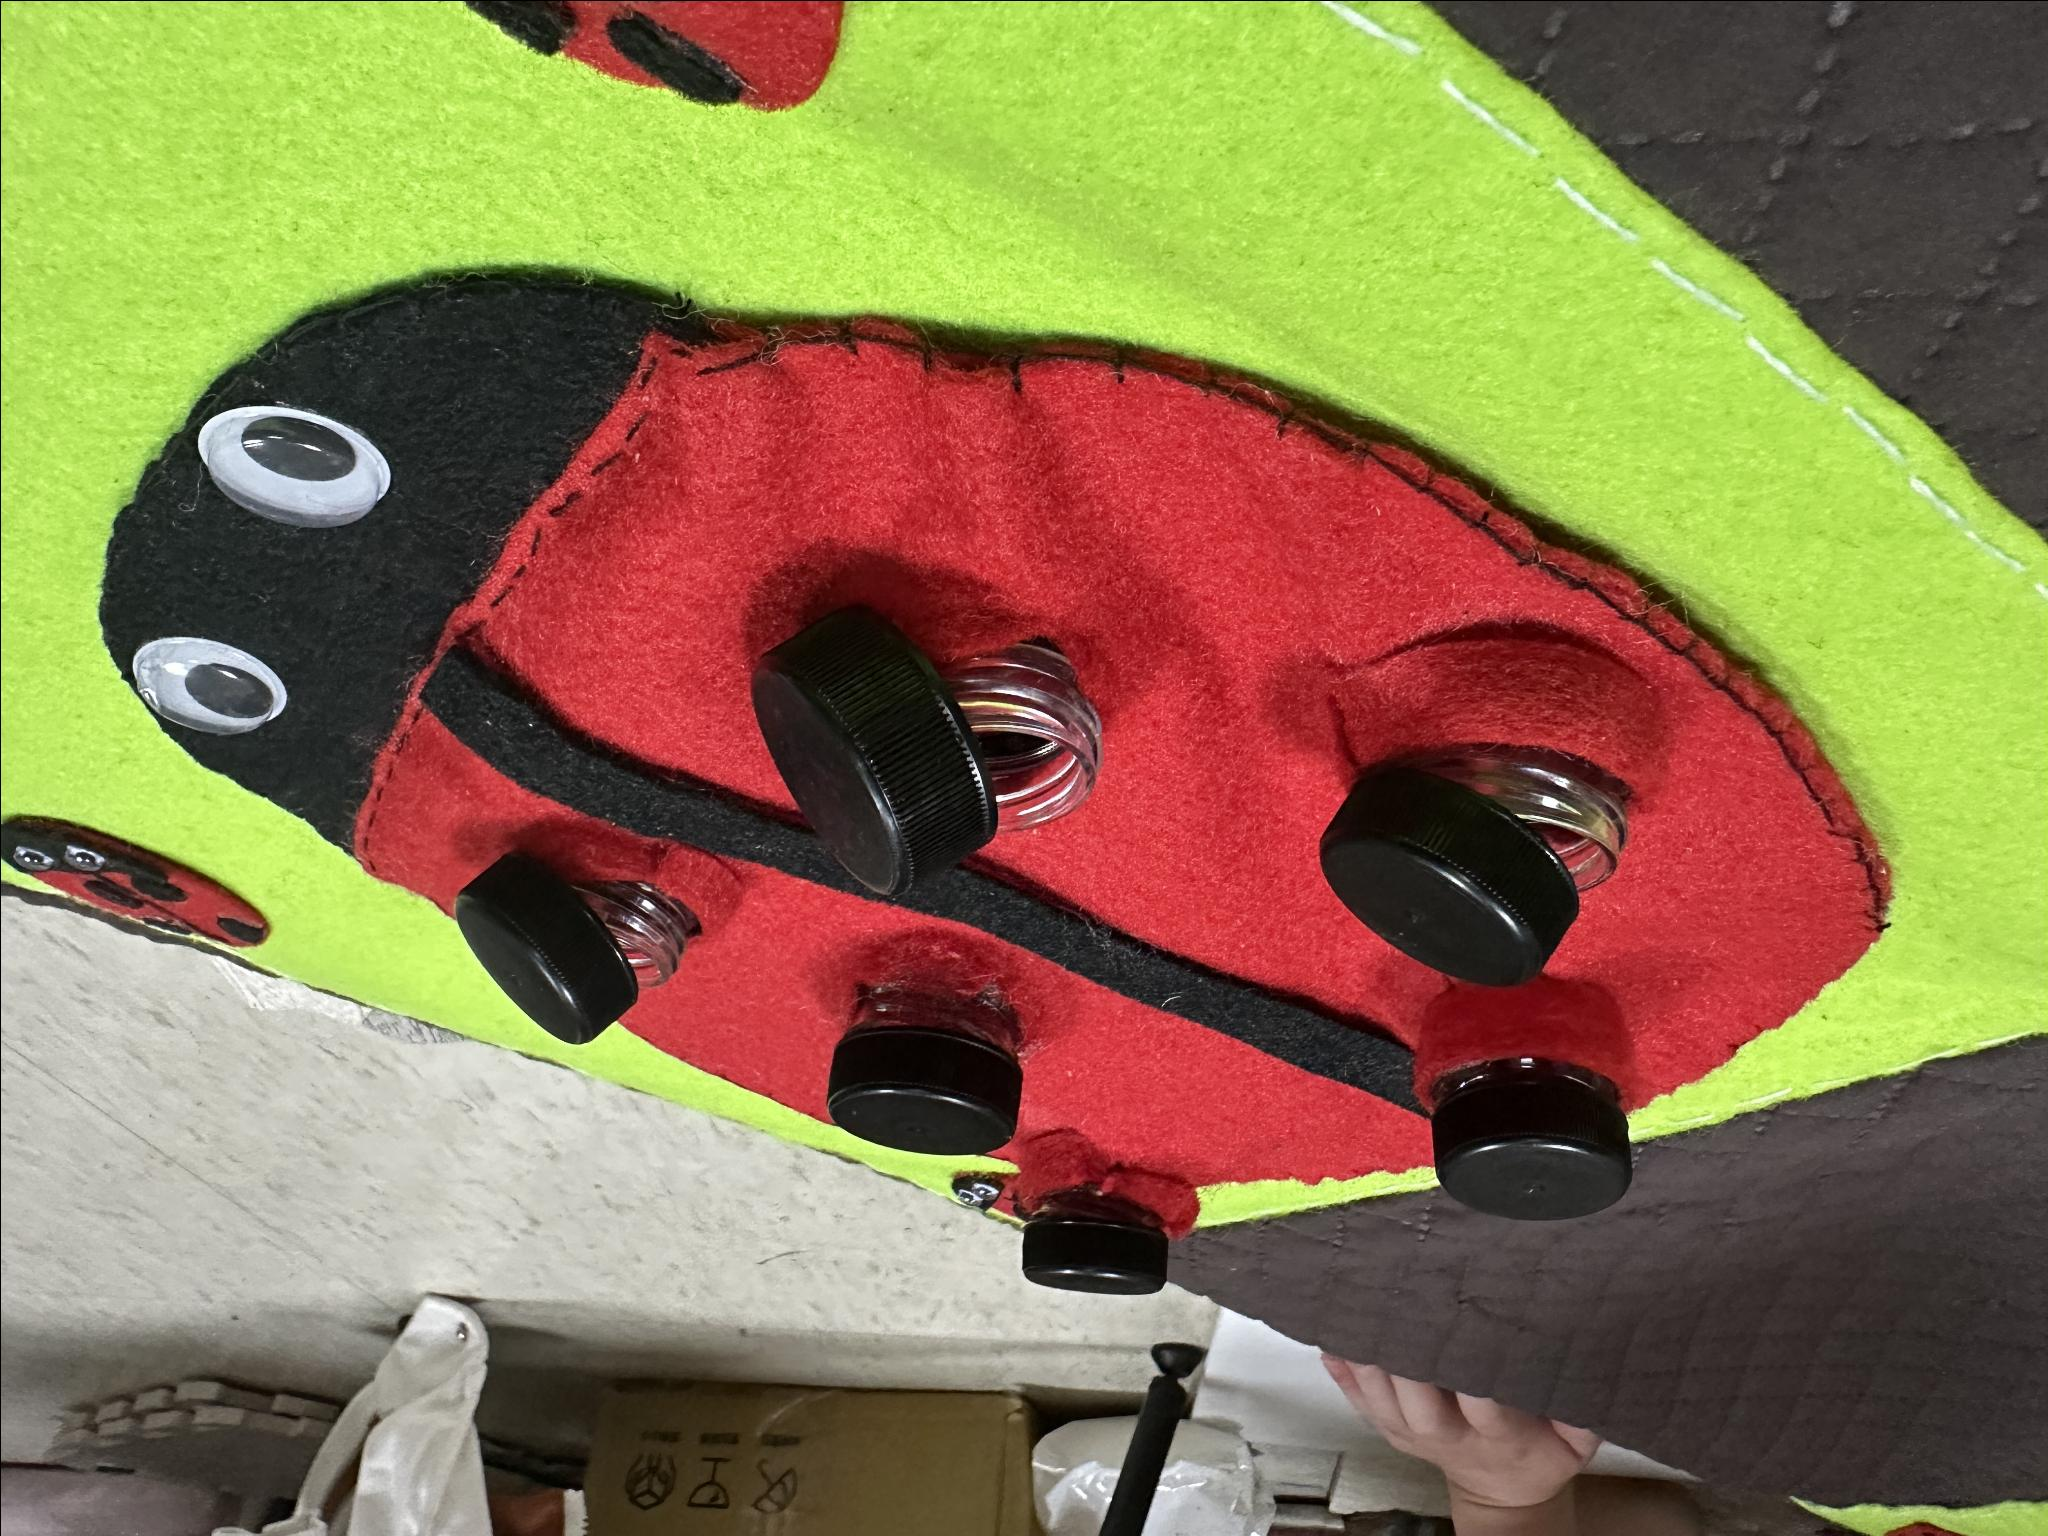cap_ng: (1298, 605, 1684, 992), (742, 571, 1130, 936), (1377, 979, 1669, 1231), (424, 839, 713, 1047), (811, 949, 1050, 1162), (1003, 1131, 1203, 1315)
